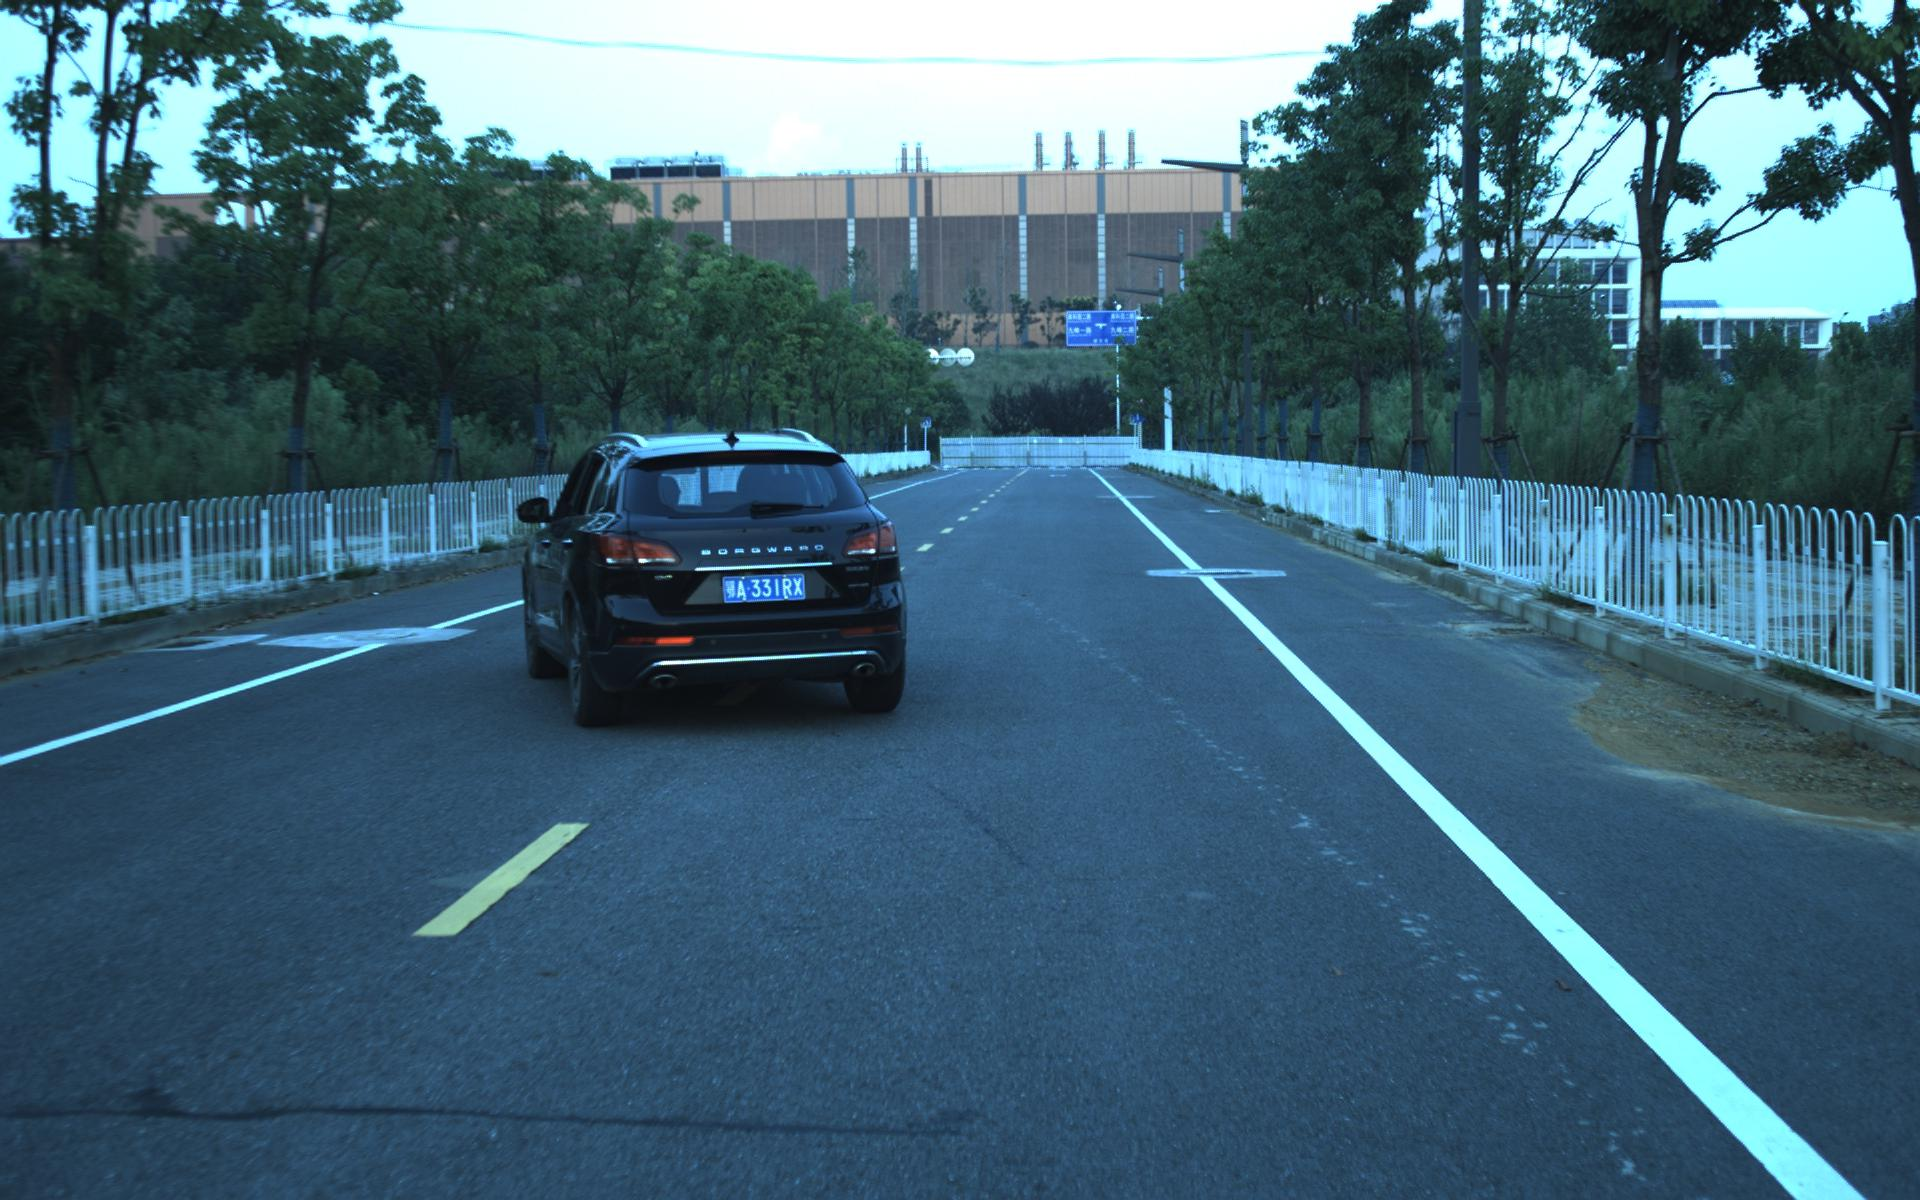Car: (509, 422, 915, 735)
